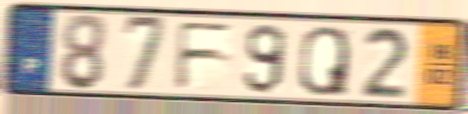2: (360, 25, 413, 101)
7: (120, 12, 168, 95)
8: (58, 11, 109, 93)
9: (241, 22, 288, 95)
F: (172, 20, 237, 92)
Q: (296, 23, 351, 98)
